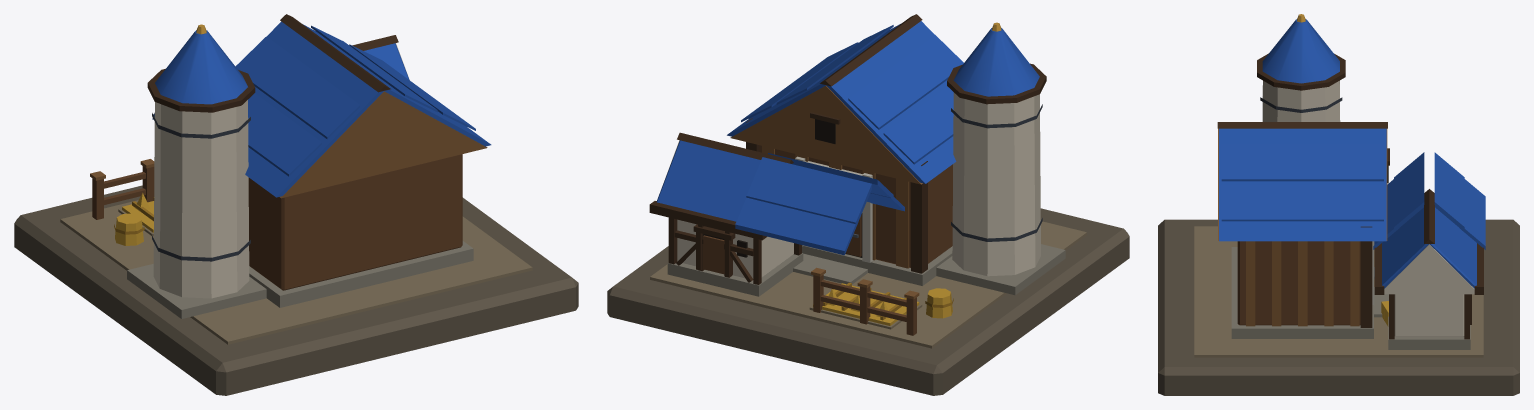
The picture shows the model from 3 angles, left to right: view 1: azimuth 30°, elevation 25°; view 2: azimuth 150°, elevation 25°; view 3: azimuth 270°, elevation 25°; orthographic projection. The views are drawn at different scales.
Parts seen in each view (by area): view 1: 农场_2星; view 2: 农场_2星; view 3: 农场_2星.
Boxes of the visible parts, box(x1,y1,x2,y2) form: 农场_2星: box(14, 14, 578, 395); 农场_2星: box(607, 14, 1129, 395); 农场_2星: box(1158, 14, 1519, 395).
Size of the model in its own units: 1 by 0.778 by 1.
